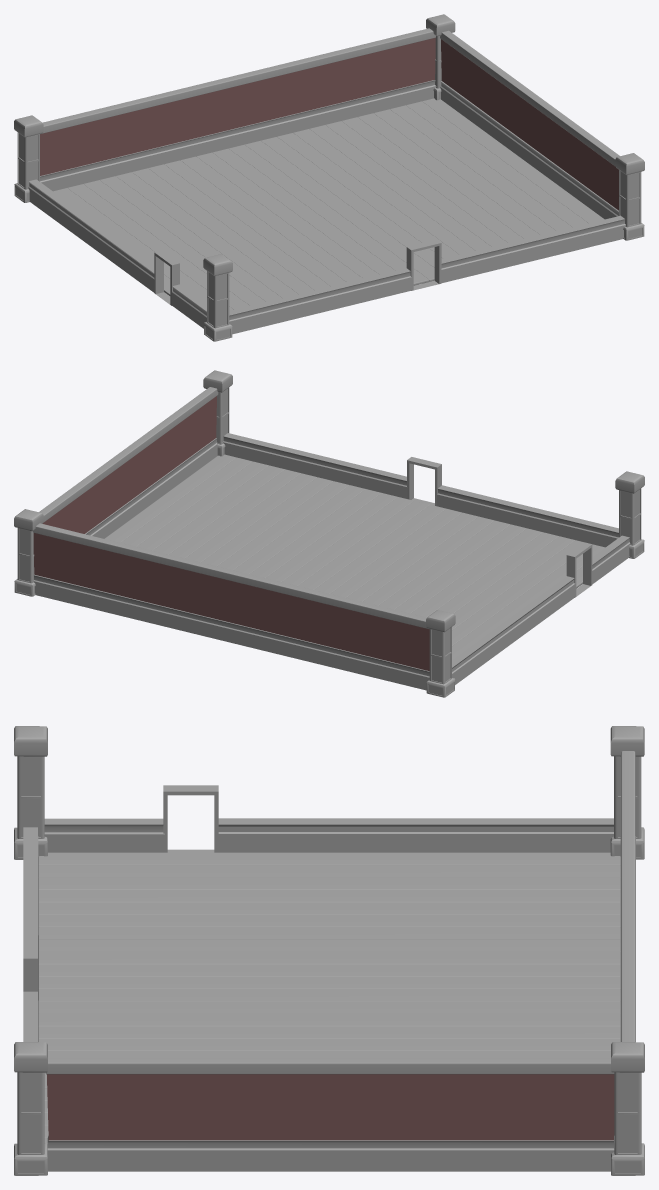
File: room2-2.fbx
3 renders of one model, top to bottom at view 1: azimuth 30°, elevation 25°; view 2: azimuth 150°, elevation 25°; view 3: azimuth 270°, elevation 25°, orthographic. The views are drawn at different scales.
Parts seen in each view (by area): view 1: Wall46, Wall51, Wall43, Wall44, Wall45, Floorboard59, Floorboard58, Floorboard48, Floorboard49, Floorboard50, Floorboard55, Floorboard62 (+24 smaller); view 2: Wall46, Wall51, Wall43, Wall44, Wall45, Pillar4, Floorboard69, Floorboard54, Floorboard55, Floorboard65, Floorboard49, Floorboard60 (+24 smaller); view 3: Wall51, Wall45, Floorboard57, Floorboard58, Floorboard60, Floorboard62, Floorboard63, Floorboard65, Floorboard66, Floorboard67, Floorboard68, Floorboard70 (+17 smaller).
Boxes of the visible parts, bbox=[...] form: Wall46: bbox=[40, 28, 435, 191]; Wall51: bbox=[440, 30, 619, 219]; Wall43: bbox=[441, 215, 625, 283]; Wall44: bbox=[229, 268, 411, 334]; Wall45: bbox=[28, 179, 154, 292]; Floorboard59: bbox=[229, 144, 429, 285]; Floorboard58: bbox=[245, 140, 434, 281]; Floorboard48: bbox=[406, 101, 588, 227]; Floorboard49: bbox=[390, 105, 572, 231]; Floorboard50: bbox=[374, 109, 555, 235]; Floorboard55: bbox=[293, 129, 475, 254]; Floorboard62: bbox=[180, 156, 362, 282]; Wall46: bbox=[33, 523, 429, 690]; Wall51: bbox=[39, 387, 218, 538]; Wall43: bbox=[223, 433, 407, 498]; Wall44: bbox=[437, 485, 618, 547]; Wall45: bbox=[452, 576, 575, 684]; Pillar4: bbox=[426, 610, 455, 697]; Floorboard69: bbox=[452, 540, 583, 645]; Floorboard54: bbox=[217, 481, 349, 570]; Floorboard55: bbox=[233, 485, 365, 574]; Floorboard65: bbox=[394, 524, 526, 613]; Floorboard49: bbox=[136, 461, 268, 550]; Floorboard60: bbox=[314, 505, 445, 593]; Wall51: bbox=[45, 1057, 614, 1171]; Wall45: bbox=[217, 818, 613, 852]; Floorboard57: bbox=[38, 1026, 620, 1038]; Floorboard58: bbox=[38, 1014, 620, 1026]; Floorboard60: bbox=[38, 989, 620, 1001]; Floorboard62: bbox=[38, 964, 620, 976]; Floorboard63: bbox=[38, 952, 620, 964]; Floorboard65: bbox=[38, 927, 620, 939]; Floorboard66: bbox=[38, 914, 620, 927]; Floorboard67: bbox=[38, 902, 620, 914]; Floorboard68: bbox=[38, 890, 620, 902]; Floorboard70: bbox=[38, 865, 620, 877].
Bounding box in the file's own units: 18.42 × 3.18 × 14.84.
